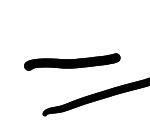eqv: (24, 53, 150, 116)
